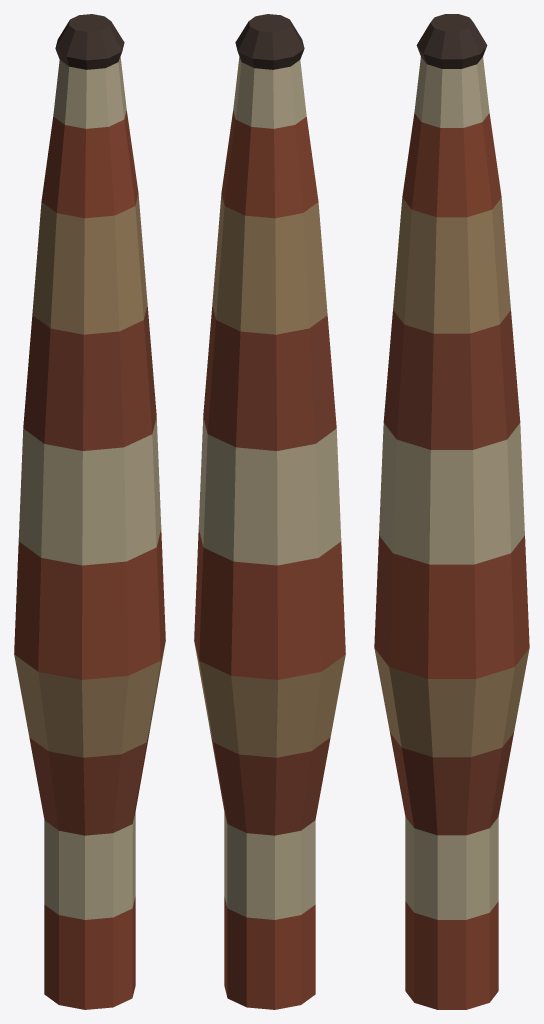
The model's file is landmark_spire_far.glb.
3 views of the same model, side by side, from view 1: azimuth 30°, elevation 25°; view 2: azimuth 150°, elevation 25°; view 3: azimuth 270°, elevation 25° (orthographic).
Visible parts, largest first — view 1: landmark_spire_far; view 2: landmark_spire_far; view 3: landmark_spire_far.
Boxes of the visible parts, <box> form: landmark_spire_far: <box>14,14,165,1009</box>; landmark_spire_far: <box>194,14,345,1009</box>; landmark_spire_far: <box>374,14,529,1009</box>.
Size of the model in its own units: 47.55 by 344 by 50.
